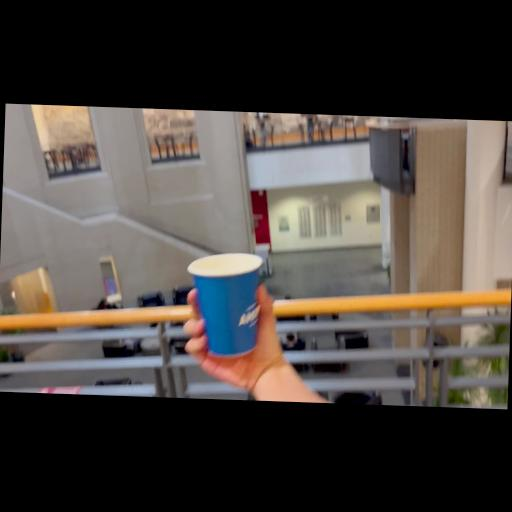lp_paper_cup: (184, 252, 264, 358)
